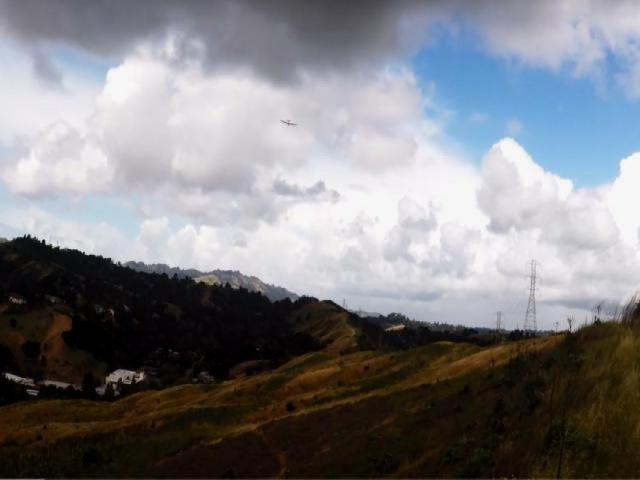iha: (280, 114, 300, 128)
